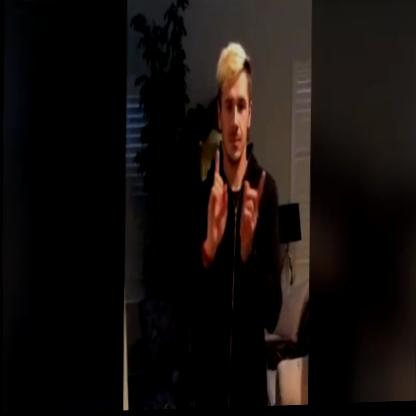NiceToMeetYou: (195, 134, 272, 272)
